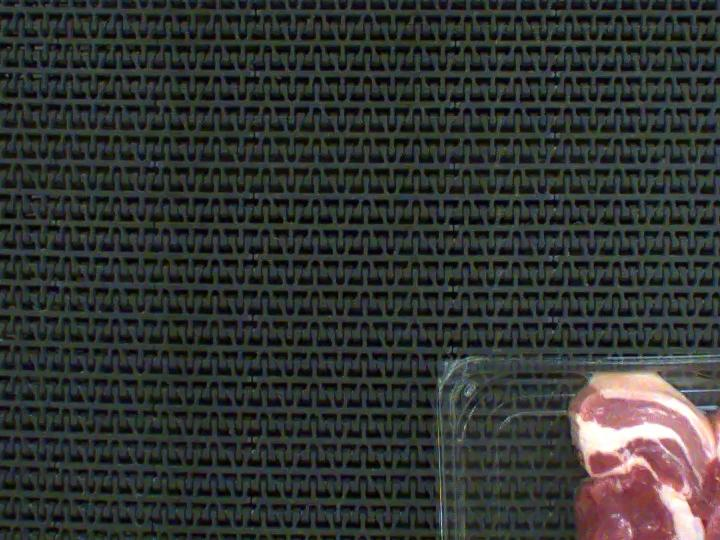packaging-error: (577, 343, 662, 442)
